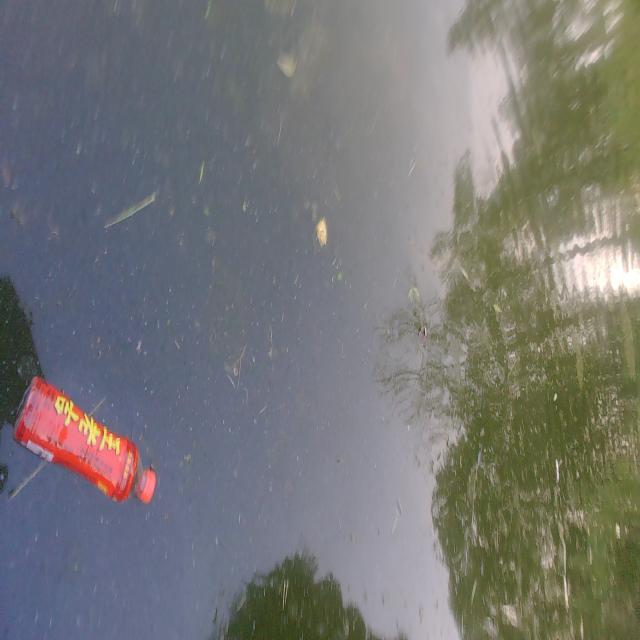garbage: (12, 374, 156, 506)
